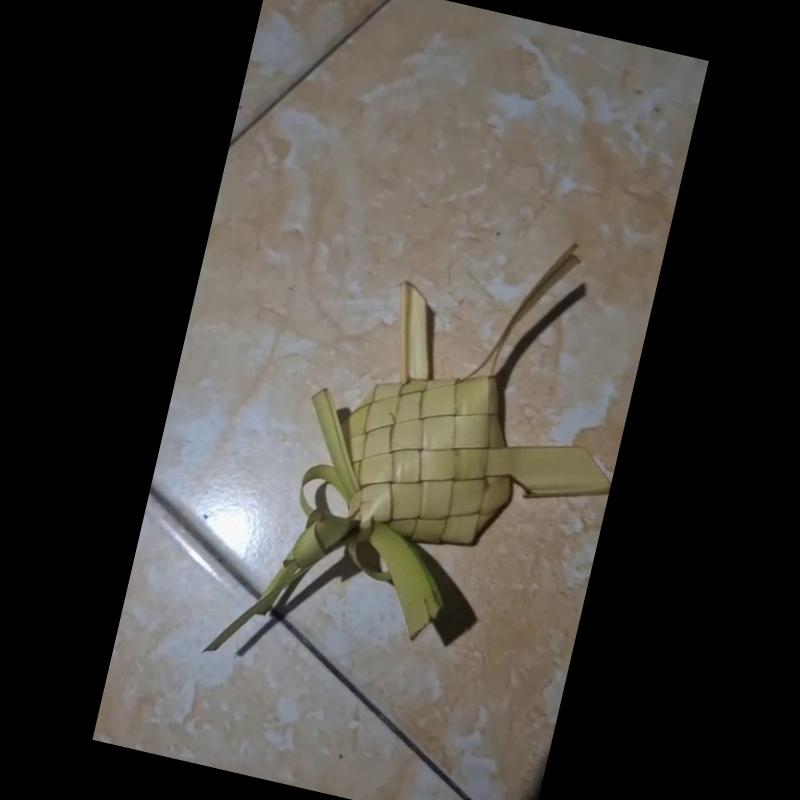Tipat Dampulan: (198, 237, 610, 652)
